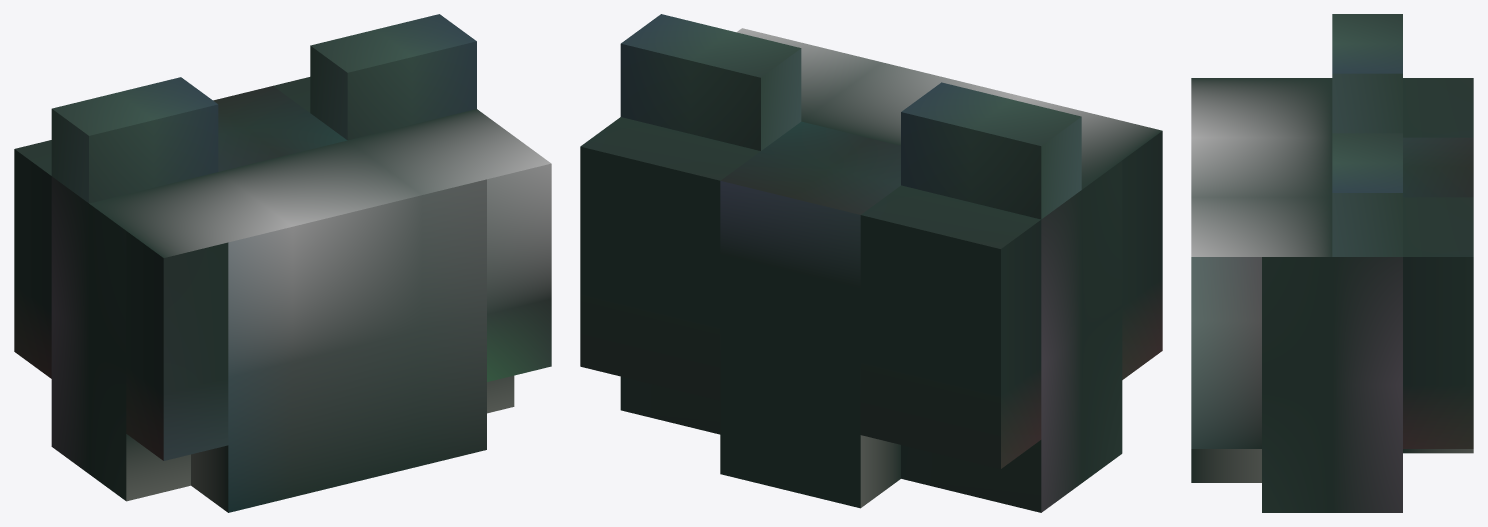
Rendered from Dolls_A_00.fbx.
3 views of the same model, side by side, from view 1: azimuth 30°, elevation 25°; view 2: azimuth 150°, elevation 25°; view 3: azimuth 270°, elevation 25° (orthographic). The views are drawn at different scales.
Parts seen in each view (by area): view 1: Dolls_A_00; view 2: Dolls_A_00; view 3: Dolls_A_00.
Part boxes in pixels (x1,y1,x2,y2): Dolls_A_00: [14, 14, 551, 512]; Dolls_A_00: [580, 14, 1162, 512]; Dolls_A_00: [1191, 14, 1473, 512].
Size of the model in its own units: 30 by 25 by 20.
